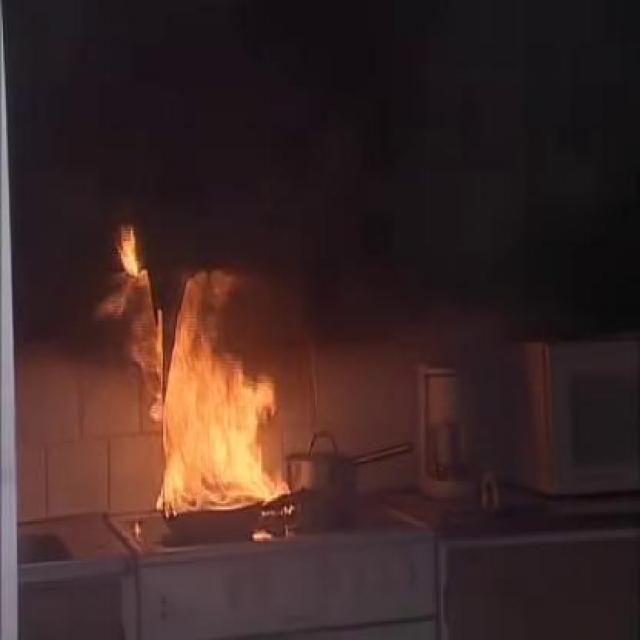fire: (140, 278, 282, 500)
